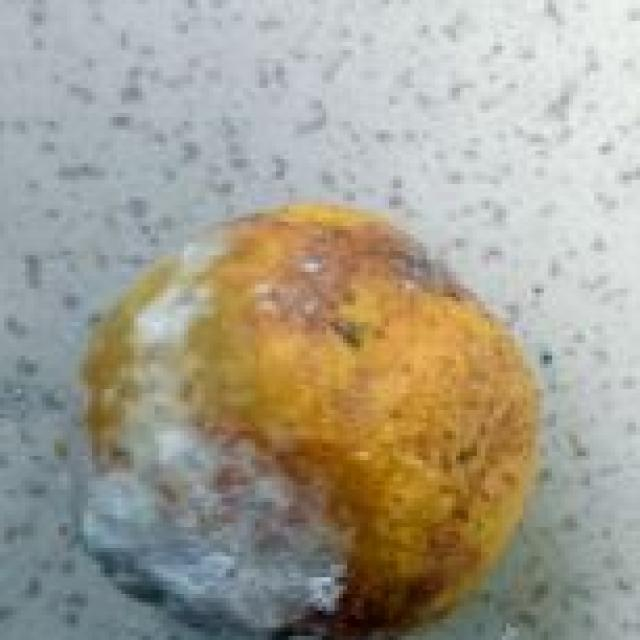Bad_Lime-0-1-day: (71, 201, 544, 640)
